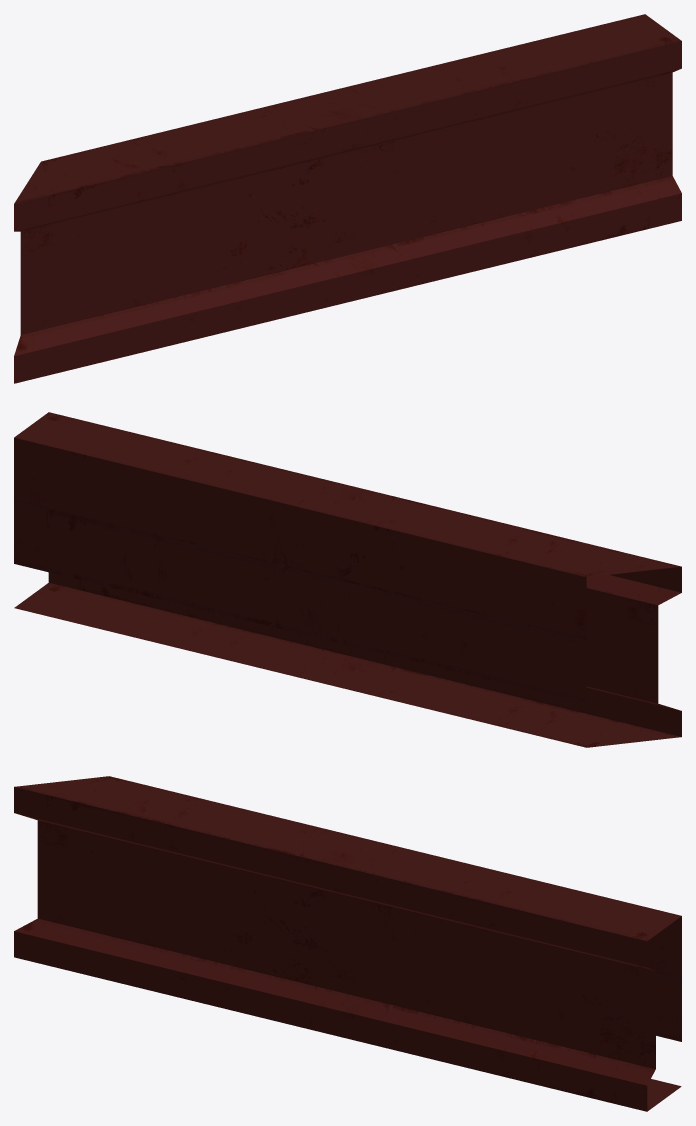
The model's file is Cornice_Small_Metal_L.gltf.
The picture shows the model from 3 angles, top to bottom: view 1: azimuth 30°, elevation 25°; view 2: azimuth 150°, elevation 25°; view 3: azimuth 330°, elevation 25°; orthographic projection. The views are drawn at different scales.
Parts seen in each view (by area): view 1: Cornice_Small_Metal_L; view 2: Cornice_Small_Metal_L; view 3: Cornice_Small_Metal_L.
Part boxes in pixels (x1=…): Cornice_Small_Metal_L: x1=14, y1=14, x2=681, y2=383; Cornice_Small_Metal_L: x1=14, y1=412, x2=681, y2=747; Cornice_Small_Metal_L: x1=14, y1=776, x2=681, y2=1111.
Size of the model in its own units: 2.1 by 0.5403 by 0.2.
1 material, 1 textured.
